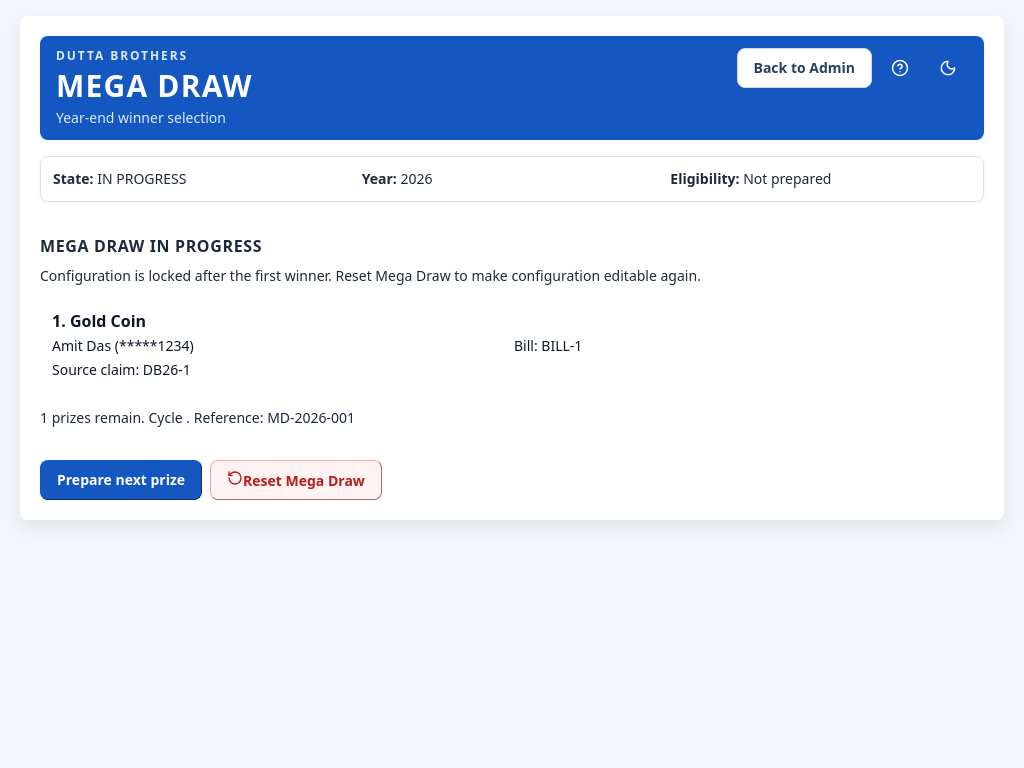
Test case: sequential Mega Draw › resets to editable configuration after normal confirmation
Expected: the heading "Mega Draw in progress" is shown, [40,235,262,257]
Click the button "Reset Mega Draw".
click(296, 480)  # box [210,460,382,500]
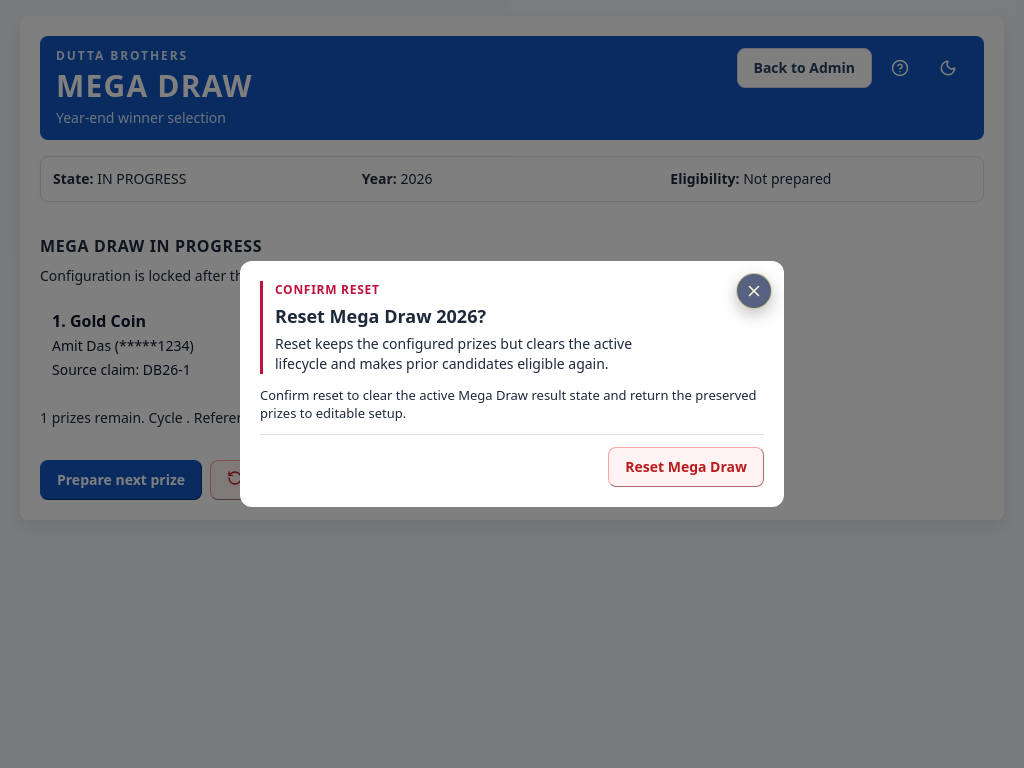
Now the button "Reset Mega Draw" is enabled
Click the button "Reset Mega Draw".
click(686, 467)  # box [608,447,764,487]
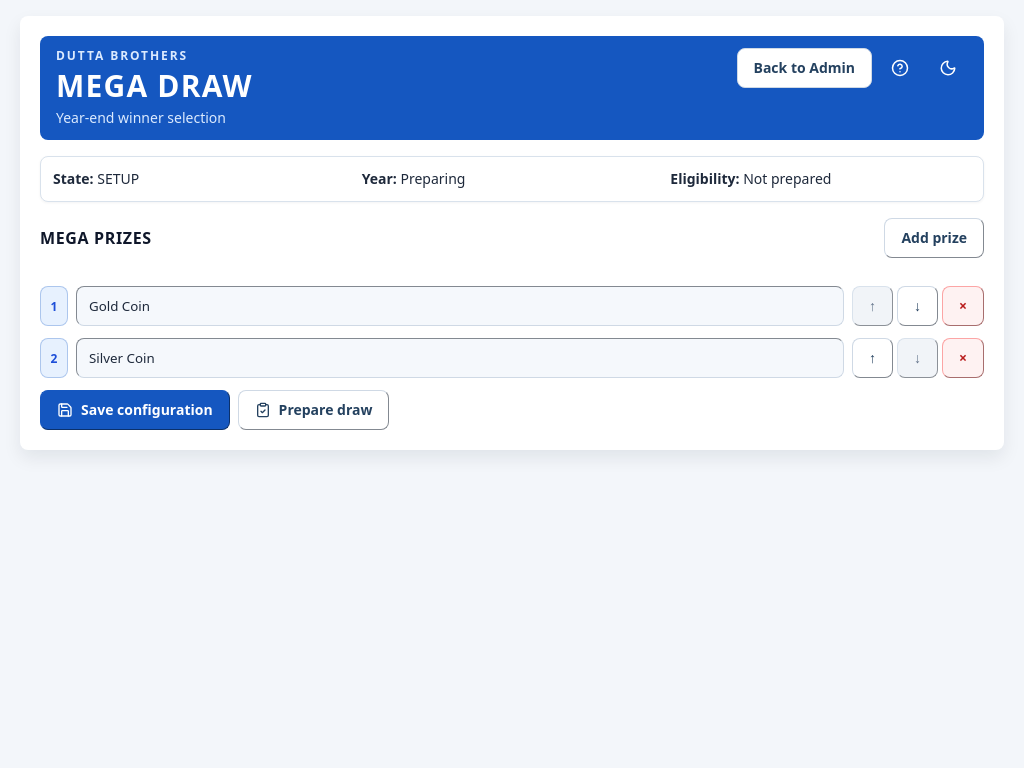
Now the button "Save configuration" is shown, box [40,390,230,430]
Now the heading "Mega Draw in progress" is gone
